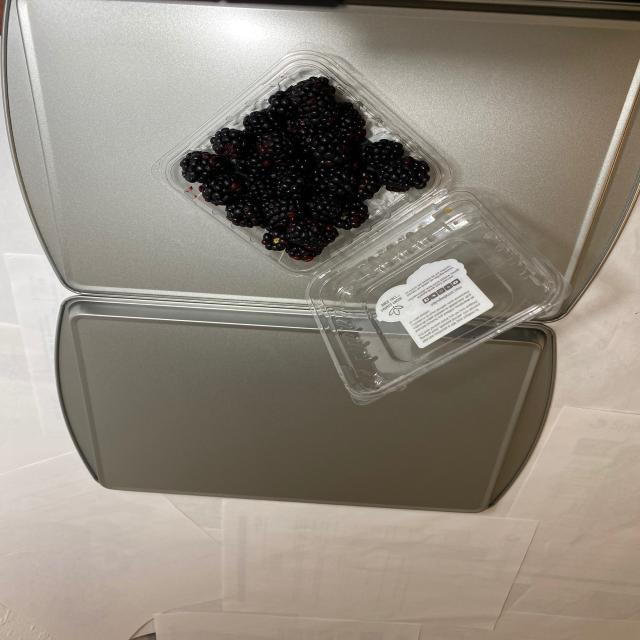blackberries: (173, 72, 473, 290)
